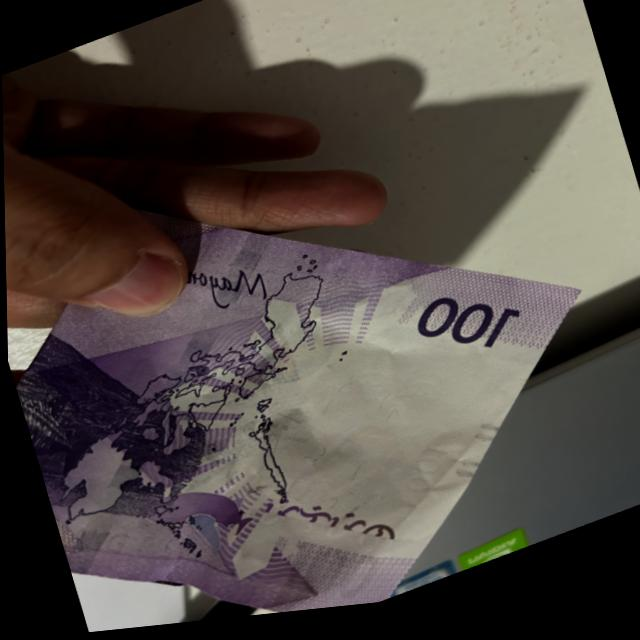100_whale_watermark: (150, 473, 257, 557)
value_watermark: (392, 445, 459, 511)
